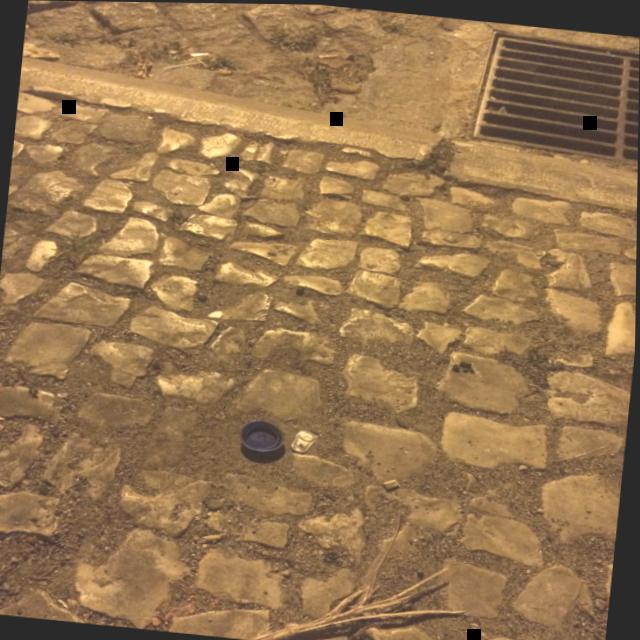Cigarette: (316, 52, 335, 56)
Plastic bottle cap: (240, 418, 284, 449)
Pop tab: (291, 428, 318, 450)
